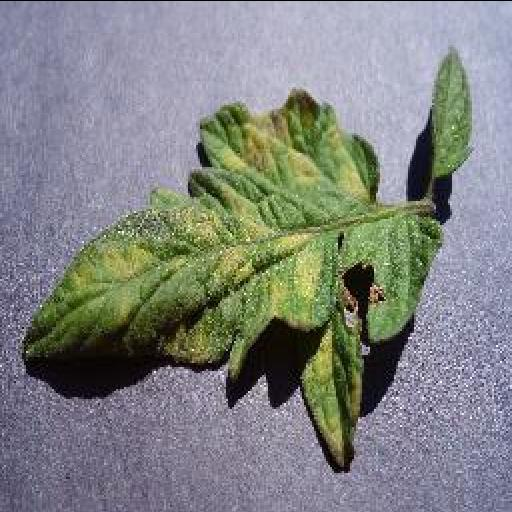disease_tomato: (19, 85, 429, 470)
